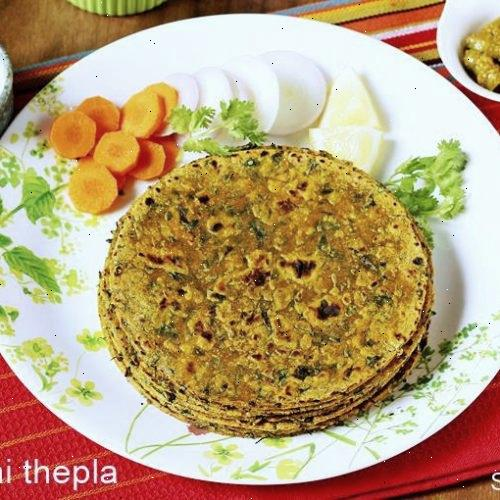salad: (55, 94, 169, 202)
thepla: (125, 145, 404, 434)
